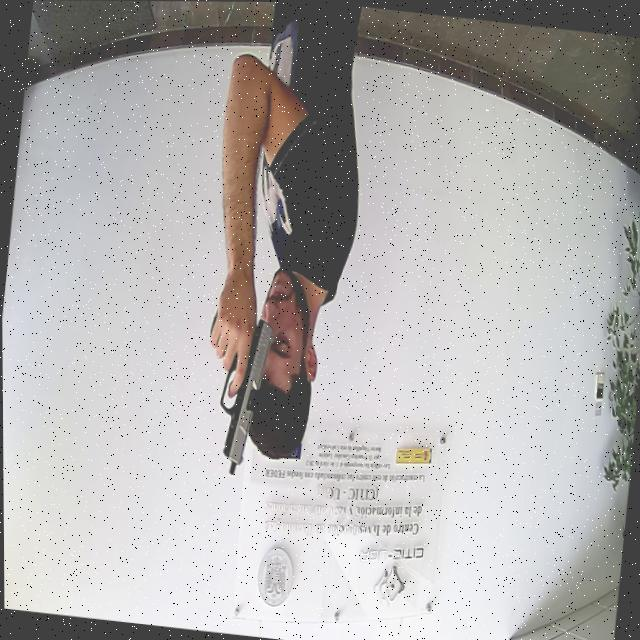pistol: (209, 312, 275, 481)
